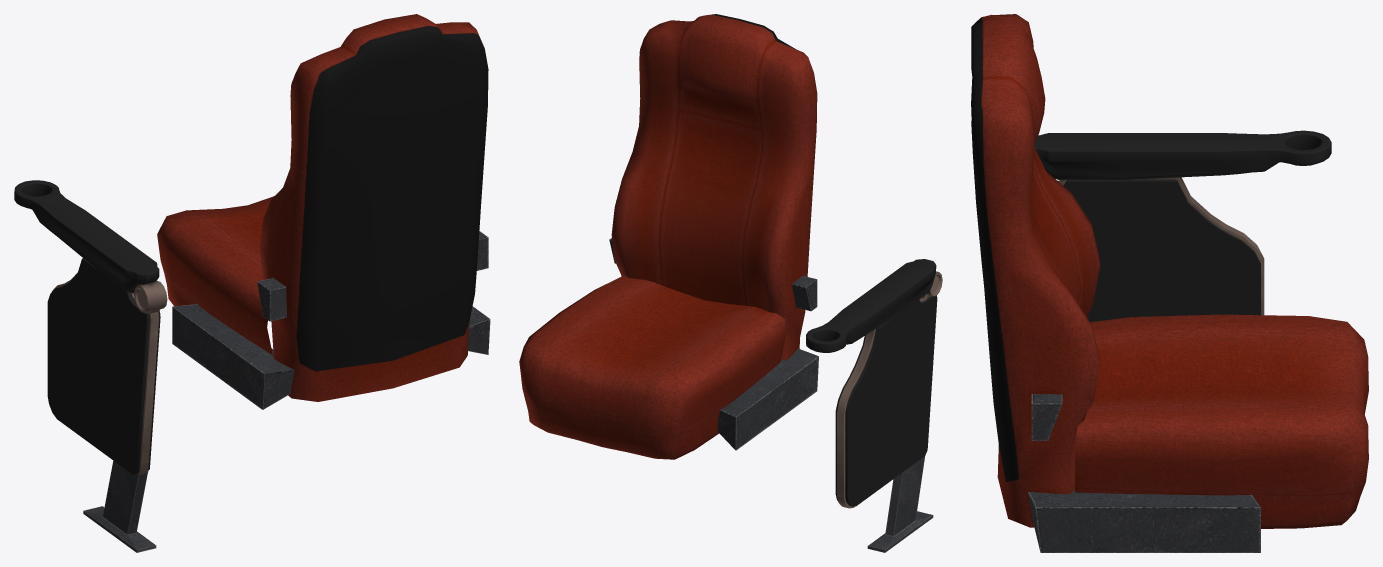
File: seat_kit.glb
3 renders of one model, left to right at view 1: azimuth 30°, elevation 25°; view 2: azimuth 150°, elevation 25°; view 3: azimuth 270°, elevation 25°, orthographic. The views are drawn at different scales.
Parts seen in each view (by area): view 1: Seat, ArmRest_EXPORT; view 2: Seat, ArmRest_EXPORT; view 3: Seat, ArmRest_EXPORT.
Boxes of the visible parts, left/top/right/bottom form: Seat: left=157, top=14, right=490, bottom=409; ArmRest_EXPORT: left=14, top=180, right=167, bottom=552; Seat: left=519, top=14, right=818, bottom=459; ArmRest_EXPORT: left=806, top=259, right=942, bottom=552; Seat: left=971, top=14, right=1368, bottom=552; ArmRest_EXPORT: left=1034, top=130, right=1331, bottom=322.
Bounding box in the file's own units: 0.9423 × 1.19 × 0.735.
Materials: 1 (1 with a texture image).
